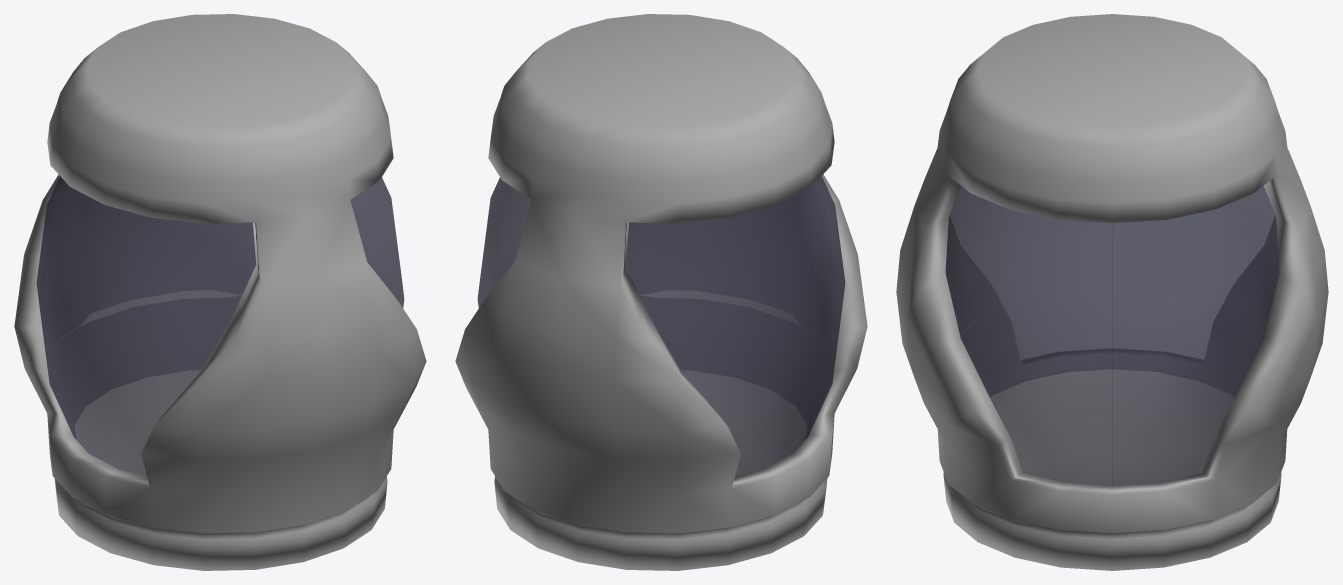
Rendered from Environment_Barrel_001_Mesh.fbx.
3 renders of one model, left to right at view 1: azimuth 30°, elevation 25°; view 2: azimuth 150°, elevation 25°; view 3: azimuth 270°, elevation 25°, orthographic.
Parts seen in each view (by area): view 1: polySurface45; view 2: polySurface45; view 3: polySurface45.
Part boxes in pixels (x1,y1,x2,y2): polySurface45: [14, 14, 426, 570]; polySurface45: [455, 14, 867, 570]; polySurface45: [896, 14, 1328, 570].
Bounding box in the file's own units: 161 × 207 × 189.
